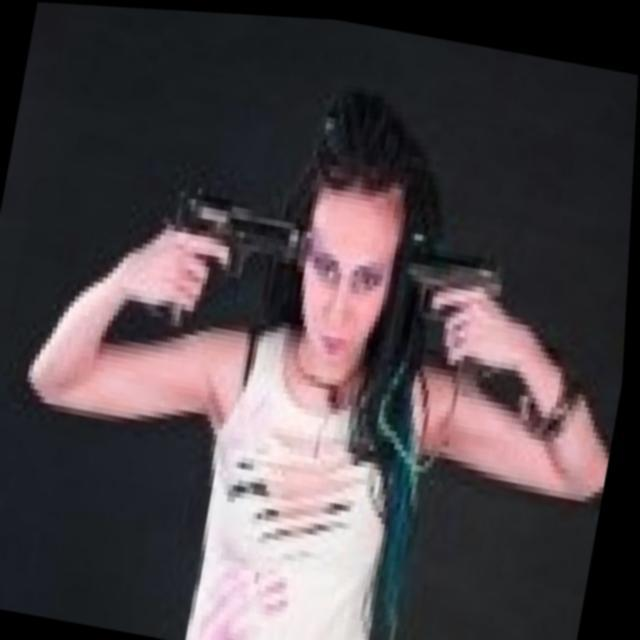weapon: (157, 171, 310, 331), (392, 228, 522, 371)
